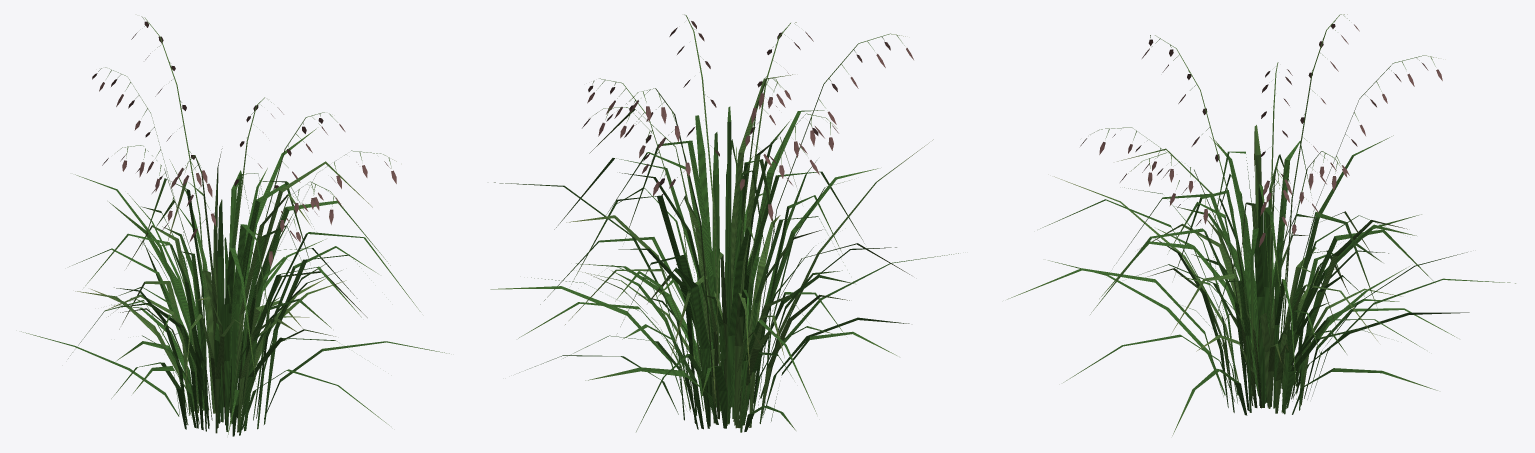
The model's file is wood-melick.glb.
3 renders of one model, left to right at view 1: azimuth 30°, elevation 25°; view 2: azimuth 150°, elevation 25°; view 3: azimuth 270°, elevation 25°, orthographic. The views are drawn at different scales.
Parts seen in each view (by area): view 1: Wood Melick; view 2: Wood Melick; view 3: Wood Melick.
Boxes of the visible parts, bbox=[...] form: Wood Melick: bbox=[21, 16, 449, 436]; Wood Melick: bbox=[490, 14, 958, 432]; Wood Melick: bbox=[1007, 14, 1515, 435].
Size of the model in its own units: 0.5108 by 0.5205 by 0.7083.
1 material, 1 textured.
